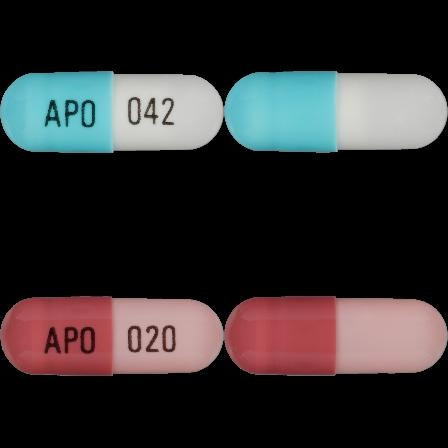60505-0042: (0, 0, 224, 224)
